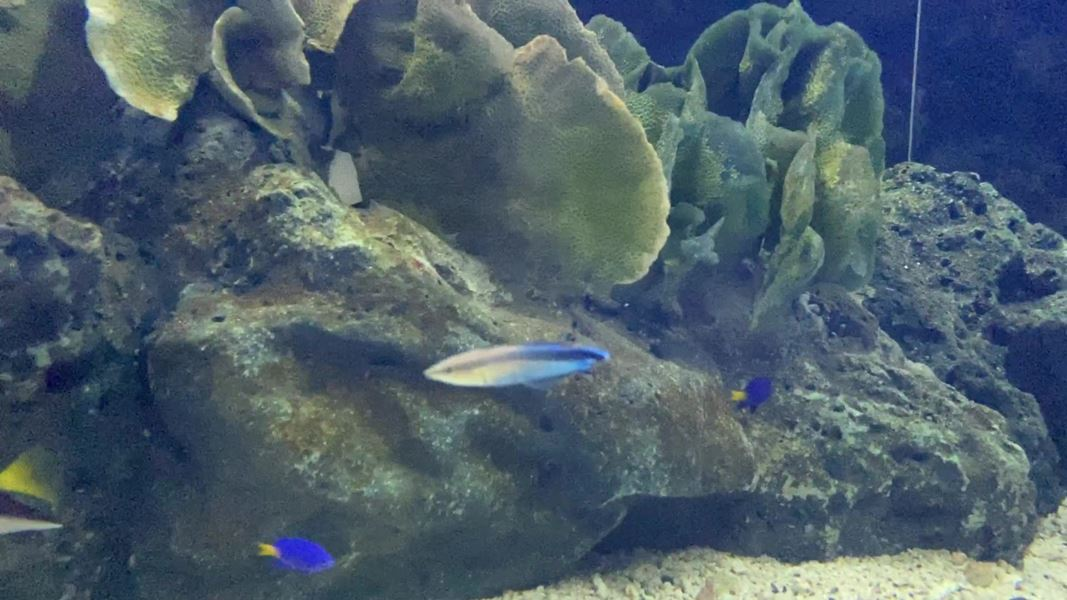Bluesteak cleaner wrasse: (414, 335, 616, 396)
